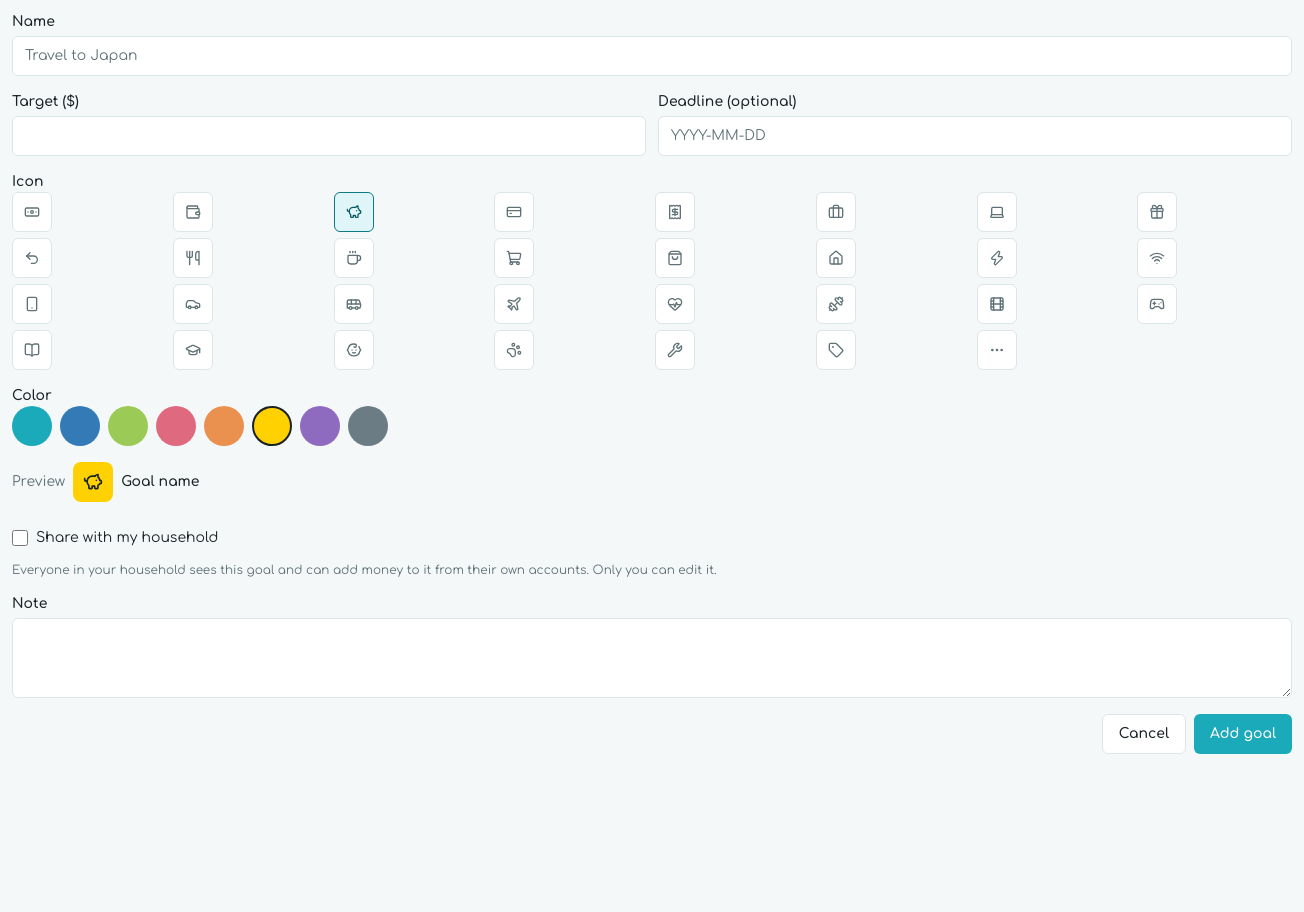
Test case: GoalForm › shares with the household, shows server errors and validates the name
Click the button "Add goal".
click(1243, 734)  # box [1194, 714, 1292, 754]
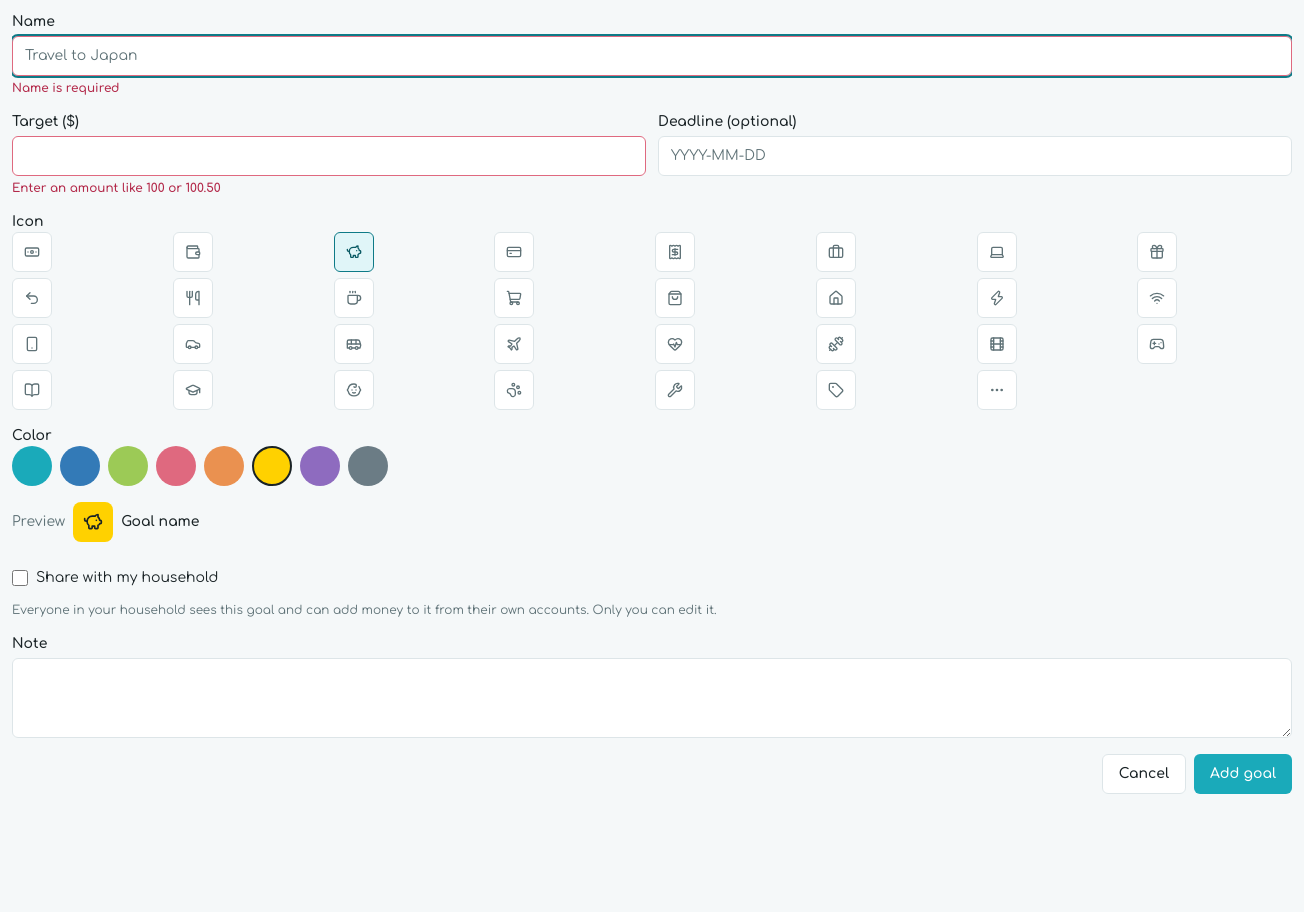
Now the text "Name is required" is shown, box [12, 81, 120, 95]
Type "Trip" into the field labelled "Name".
click(652, 56); type("Trip")  # box [12, 36, 1292, 76]
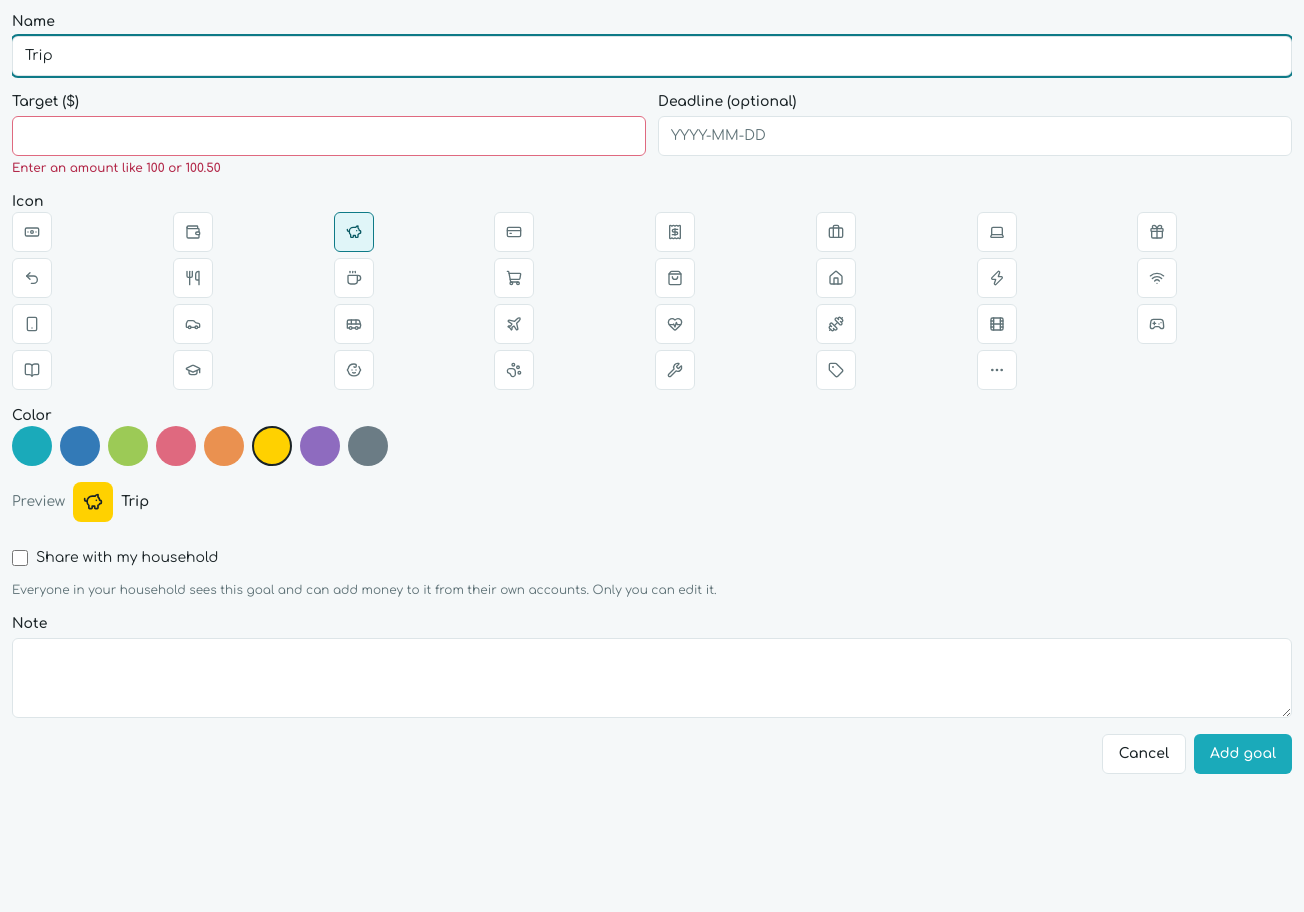
Type "10" into the field labelled "Target ($)".
click(329, 136); type("10")  # box [12, 116, 646, 156]
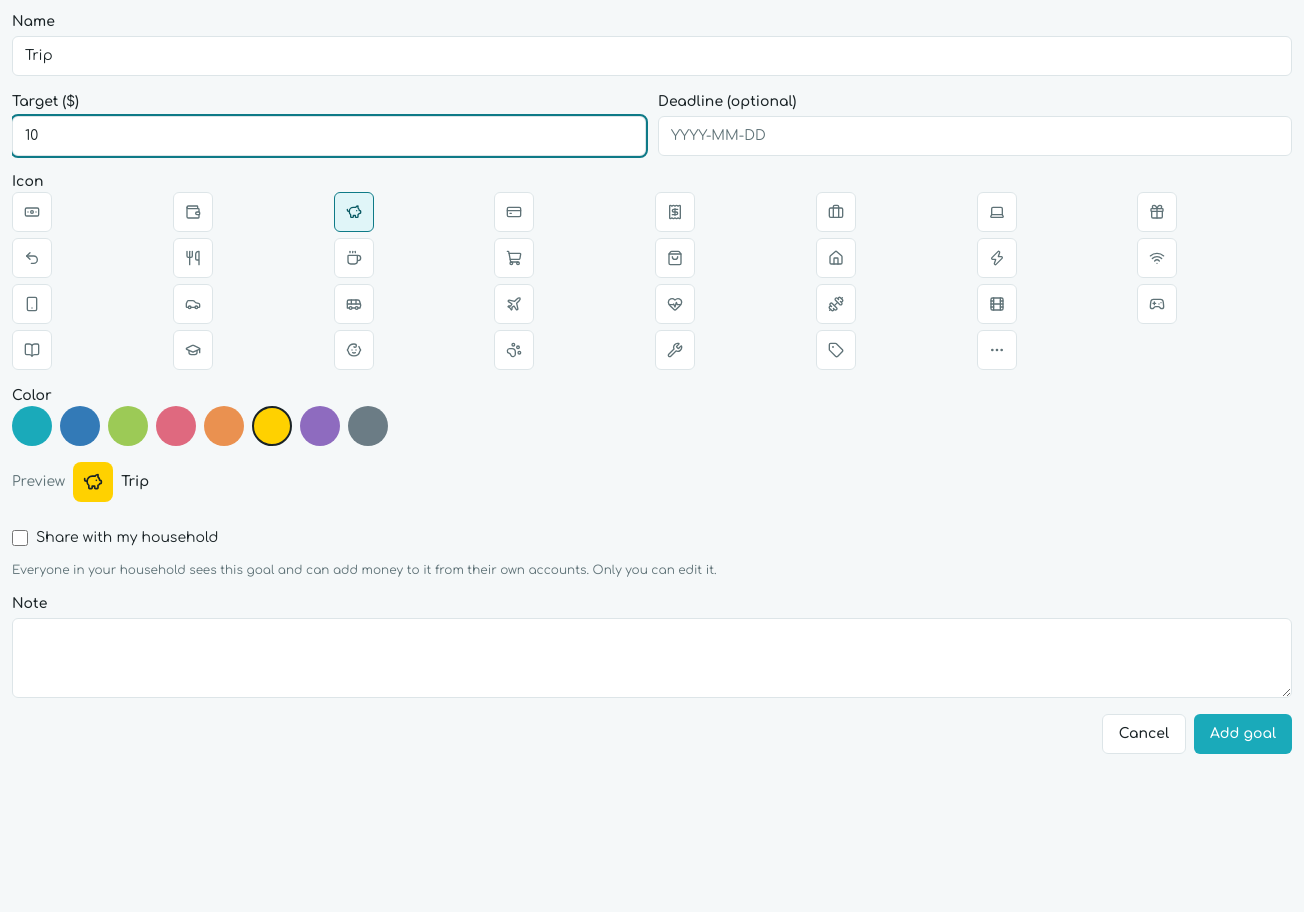
Click the checkbox labelled "Share with my household".
click(20, 538)  # box [12, 530, 28, 546]
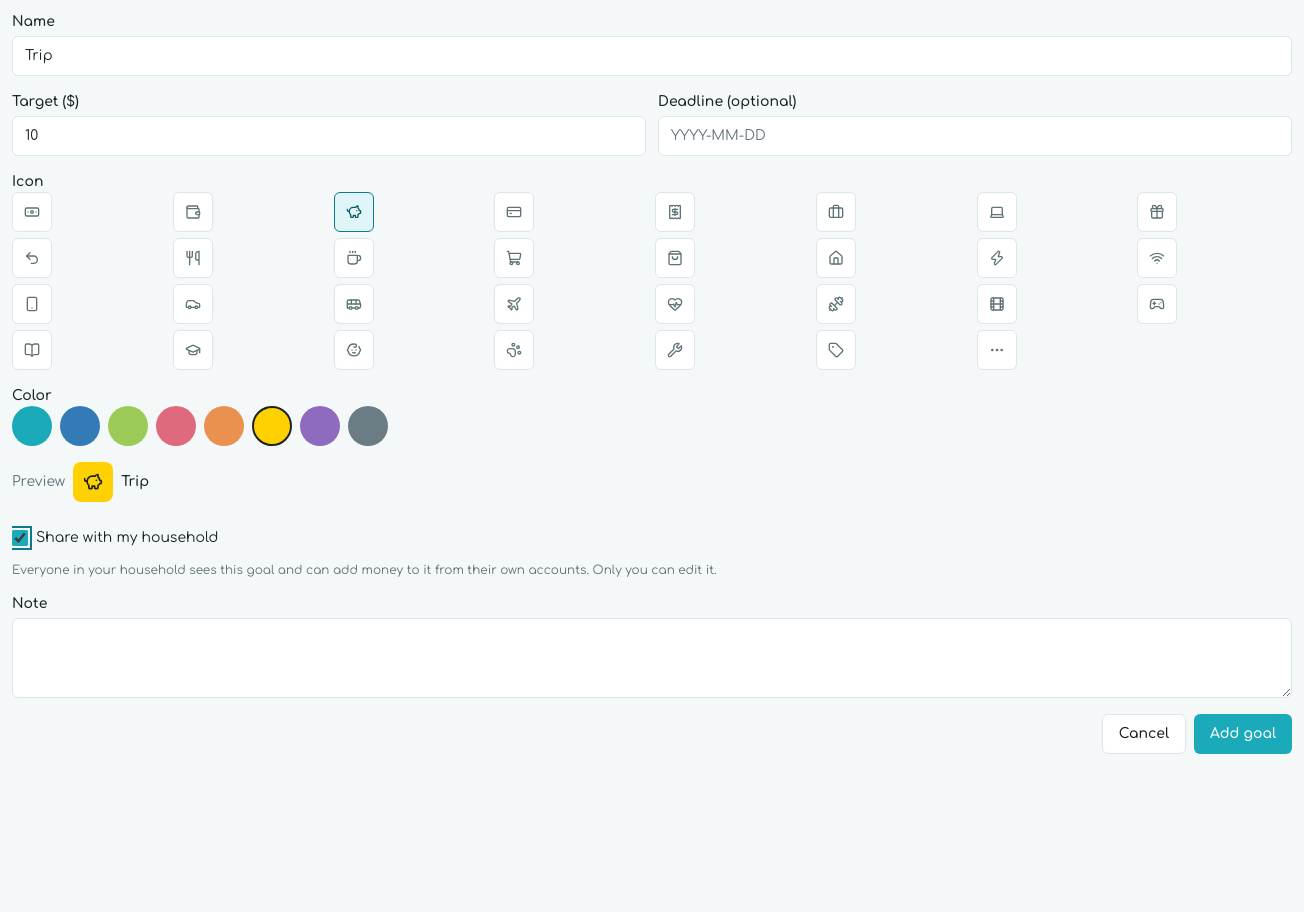
Click the button "Add goal".
click(1243, 734)  # box [1194, 714, 1292, 754]
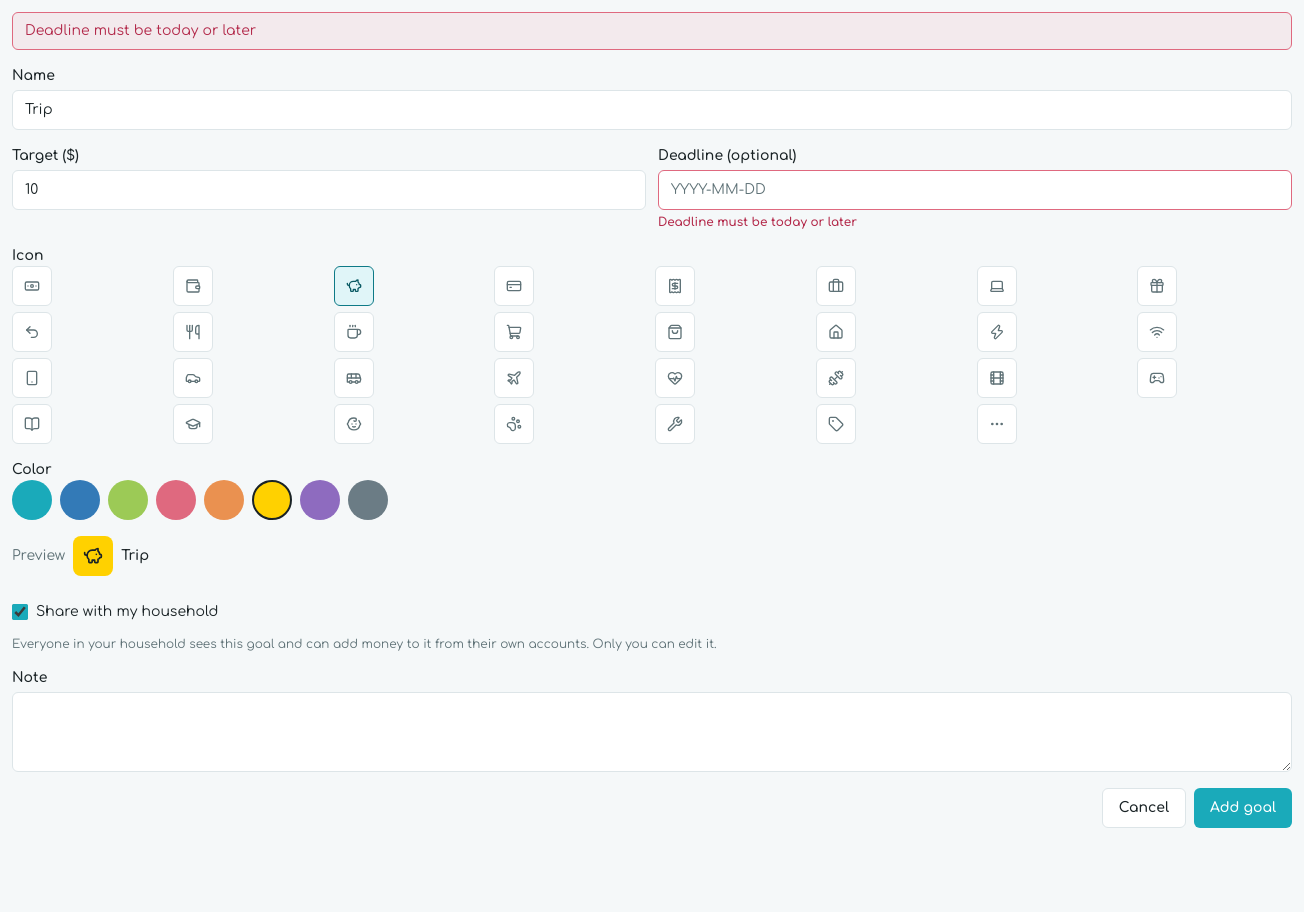
Now the 1st text "Deadline must be today or later" is shown, box [12, 12, 1292, 50]
